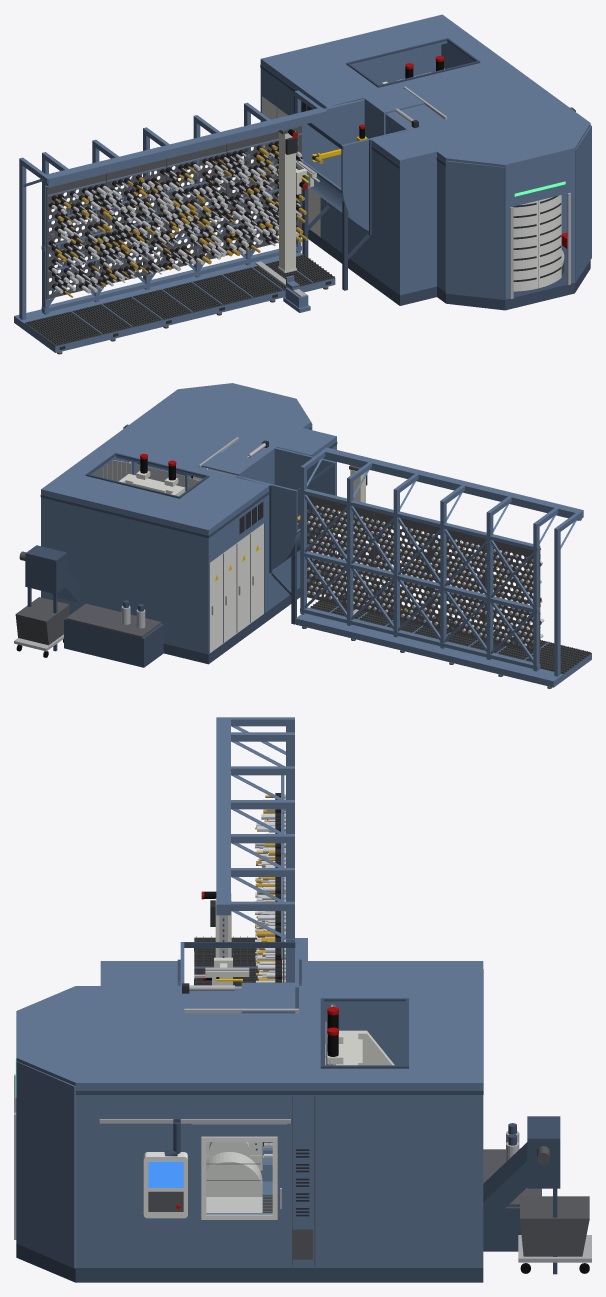
File: clock1200evo_fms_sidemag_blue.glb
3 views of the same model, one above another, from view 1: azimuth 30°, elevation 25°; view 2: azimuth 150°, elevation 25°; view 3: azimuth 270°, elevation 25° (orthographic). The views are drawn at different scales.
Visible parts, largest first — view 1: enclosure__mcm_blue, apc_housing__mcm_blue, twm_frame__mcm_blue, twm_tools__holder, twm_frame__anthracite_lt, twm_tools__tool_bright, twm_base__grating, tc_box__mcm_blue, twm_base__mcm_blue, enclosure__mcm_blue_dk, twm_tools__tool_gold, mag_loader__struct_grey (+9 smaller); view 2: enclosure__mcm_blue, twm_frame__mcm_blue, twm_frame__anthracite_lt, chip_coolant__mcm_blue_dk, electrical_cabinet__evo_white, twm_tools__steel, twm_base__mcm_blue, tc_box__mcm_blue, enclosure__mcm_blue_dk, apc_housing__mcm_blue, twm_base__grating, chip_cart__steel_dark (+7 smaller); view 3: enclosure__mcm_blue, apc_housing__mcm_blue, twm_frame__mcm_blue, enclosure__mcm_blue_dk, chip_coolant__mcm_blue_dk, operator_door__glass_clear, operator_door__mcm_blue, chip_cart__steel_dark, table__struct_grey, twm_tools__tool_bright, operator_door__evo_white, enclosure__steel (+12 smaller).
Part boxes in pixels (left/top/right/bottom): enclosure__mcm_blue: left=260, top=14, right=580, bottom=295; apc_housing__mcm_blue: left=437, top=116, right=591, bottom=299; twm_frame__mcm_blue: left=19, top=90, right=327, bottom=320; twm_tools__holder: left=48, top=141, right=302, bottom=294; twm_frame__anthracite_lt: left=46, top=126, right=301, bottom=299; twm_tools__tool_bright: left=51, top=144, right=303, bottom=293; twm_base__grating: left=25, top=254, right=334, bottom=346; tc_box__mcm_blue: left=302, top=99, right=407, bottom=230; twm_base__mcm_blue: left=14, top=252, right=335, bottom=352; enclosure__mcm_blue_dk: left=260, top=38, right=480, bottom=305; twm_tools__tool_gold: left=55, top=145, right=308, bottom=297; mag_loader__struct_grey: left=278, top=131, right=296, bottom=273; enclosure__mcm_blue: left=41, top=395, right=336, bottom=654; twm_frame__mcm_blue: left=300, top=447, right=583, bottom=676; twm_frame__anthracite_lt: left=307, top=495, right=540, bottom=653; chip_coolant__mcm_blue_dk: left=25, top=545, right=163, bottom=667; electrical_cabinet__evo_white: left=210, top=523, right=263, bottom=652; twm_tools__steel: left=306, top=505, right=533, bottom=646; twm_base__mcm_blue: left=295, top=600, right=591, bottom=687; tc_box__mcm_blue: left=236, top=447, right=336, bottom=569; enclosure__mcm_blue_dk: left=40, top=442, right=337, bottom=664; apc_housing__mcm_blue: left=170, top=383, right=312, bottom=477; twm_base__grating: left=310, top=593, right=591, bottom=673; chip_cart__steel_dark: left=15, top=597, right=69, bottom=645; enclosure__mcm_blue: left=100, top=961, right=483, bottom=1267; apc_housing__mcm_blue: left=16, top=986, right=100, bottom=1268; twm_frame__mcm_blue: left=216, top=717, right=294, bottom=982; enclosure__mcm_blue_dk: left=100, top=959, right=483, bottom=1282; chip_coolant__mcm_blue_dk: left=483, top=1116, right=560, bottom=1274; operator_door__glass_clear: left=207, top=1142, right=271, bottom=1213; operator_door__mcm_blue: left=191, top=1123, right=287, bottom=1231; chip_cart__steel_dark: left=520, top=1196, right=589, bottom=1256; table__struct_grey: left=206, top=1142, right=262, bottom=1212; twm_tools__tool_bright: left=255, top=799, right=275, bottom=982; operator_door__evo_white: left=201, top=1136, right=277, bottom=1219; enclosure__steel: left=99, top=985, right=298, bottom=1123.
Size of the model in its own units: 11.15 by 3.54 by 7.86.
